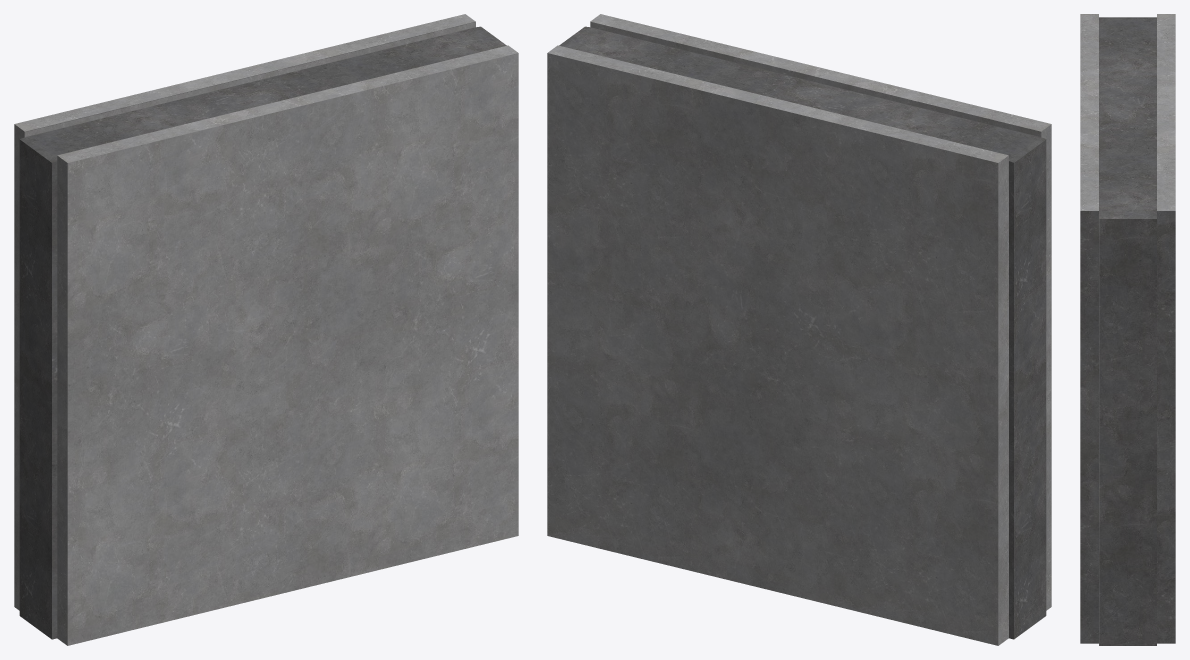
File: concretewall1.dae
3 renders of one model, left to right at view 1: azimuth 30°, elevation 25°; view 2: azimuth 150°, elevation 25°; view 3: azimuth 270°, elevation 25°, orthographic. The views are drawn at different scales.
Parts seen in each view (by area): view 1: Cube; view 2: Cube; view 3: Cube.
Boxes of the visible parts, bbox=[...] form: Cube: bbox=[14, 14, 518, 645]; Cube: bbox=[547, 14, 1051, 645]; Cube: bbox=[1080, 14, 1175, 645].
Bounding box in the file's own units: 2 × 0.4 × 2.
1 material, 1 textured.
